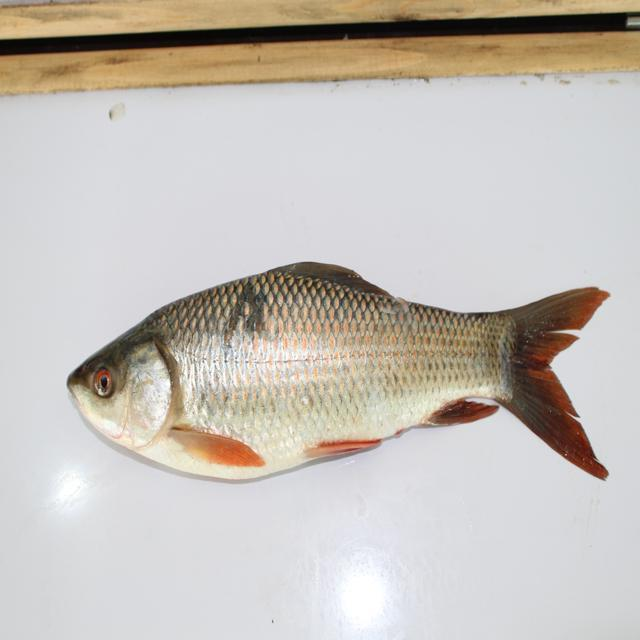Rohu: (44, 251, 628, 511)
